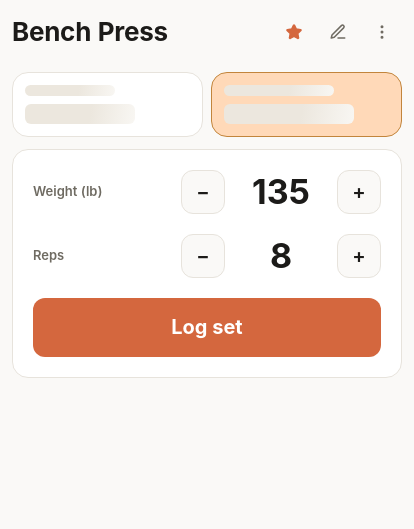
Scenario: ExerciseDetail in-flight visual feedback › keeps "Set N" labels in true chronological (clientLoggedAt) order even when cache/array order disagrees
Click the button "Log set" at (207, 328), box [33,298,381,357]
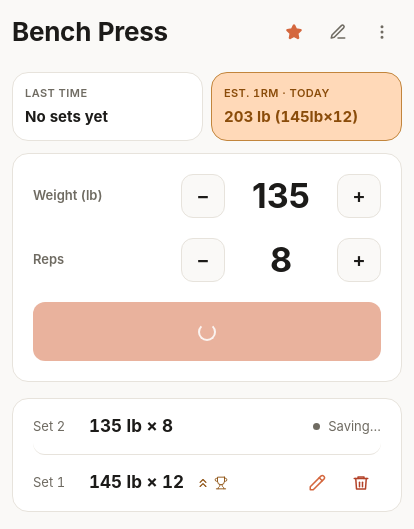
Expected: the text "135 lb × 8" is shown, [89,414,173,439]
Expected: the text "Set 1" is shown, [33,474,65,490]
Expected: the text "Set 2" is shown, [33,418,65,434]
